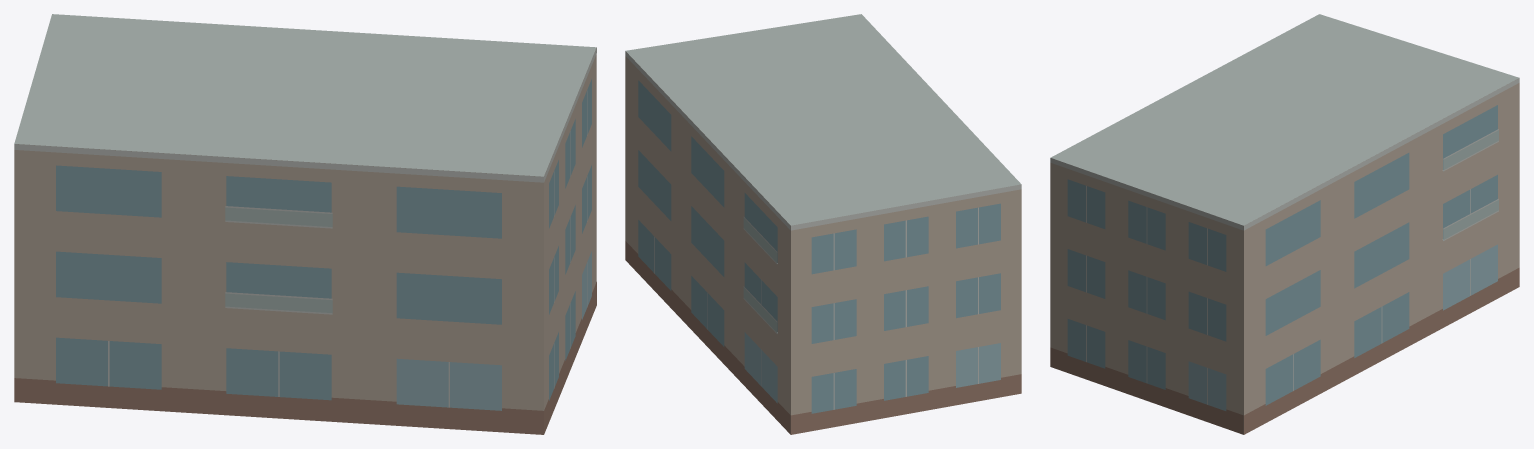
Rendered from survey-upis-32497391.glb.
3 views of the same model, side by side, from view 1: azimuth 30°, elevation 25°; view 2: azimuth 150°, elevation 25°; view 3: azimuth 270°, elevation 25° (orthographic). The views are drawn at different scales.
Parts seen in each view (by area): view 1: survey-upis-32497391.tmp; view 2: survey-upis-32497391.tmp; view 3: survey-upis-32497391.tmp.
Part boxes in pixels (box(x1,y1,x2,y2)): survey-upis-32497391.tmp: box(14, 14, 596, 434); survey-upis-32497391.tmp: box(625, 14, 1021, 434); survey-upis-32497391.tmp: box(1050, 14, 1519, 434).
Size of the model in its own units: 22.59 by 10.4 by 21.15.
